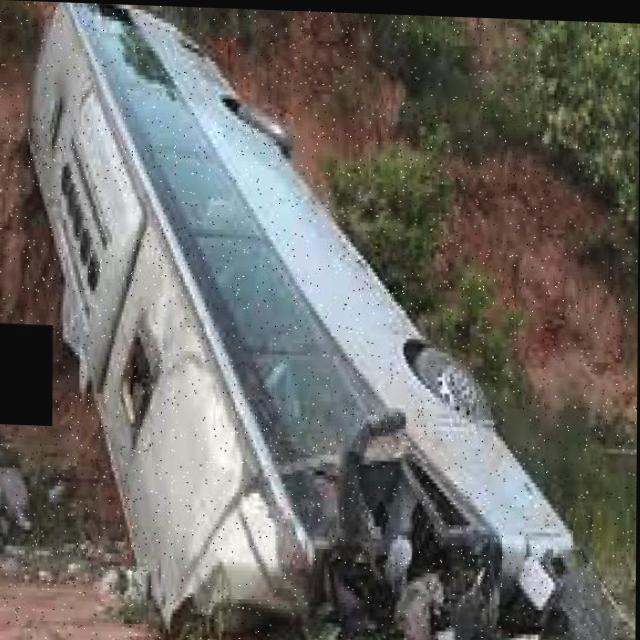single accident: (13, 0, 587, 640)
